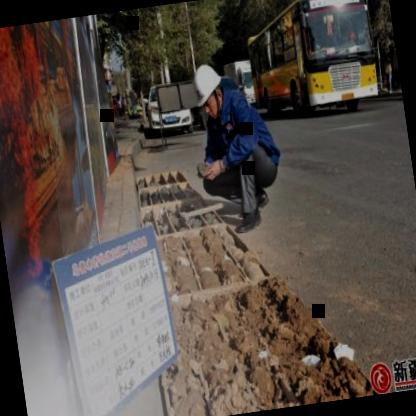helmet: (190, 58, 230, 122)
